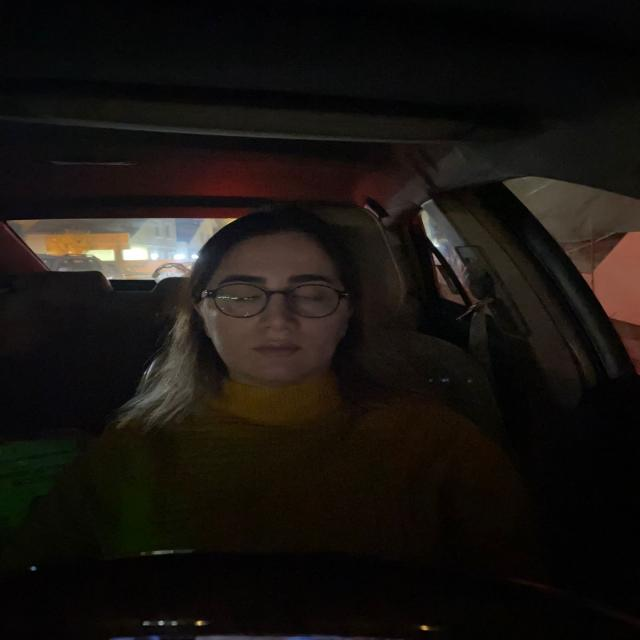drowsy: (189, 200, 363, 385)
